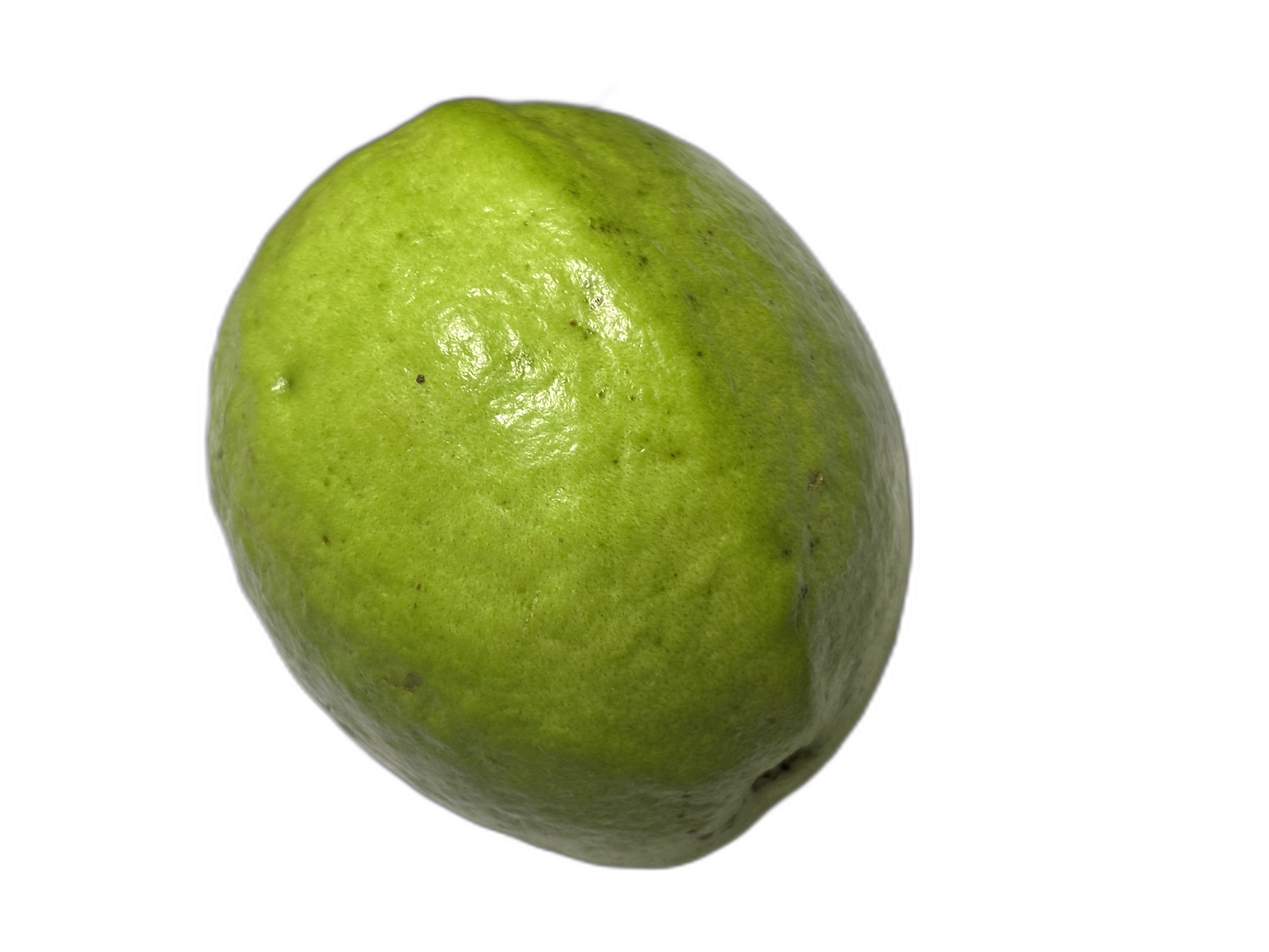guava: (279, 60, 1112, 798)
